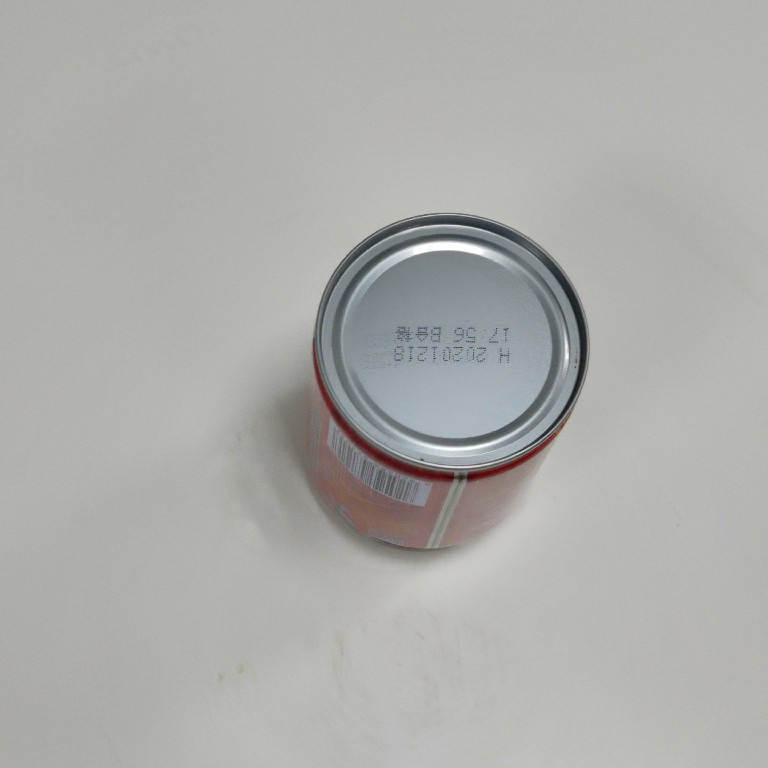can: (303, 207, 593, 559)
